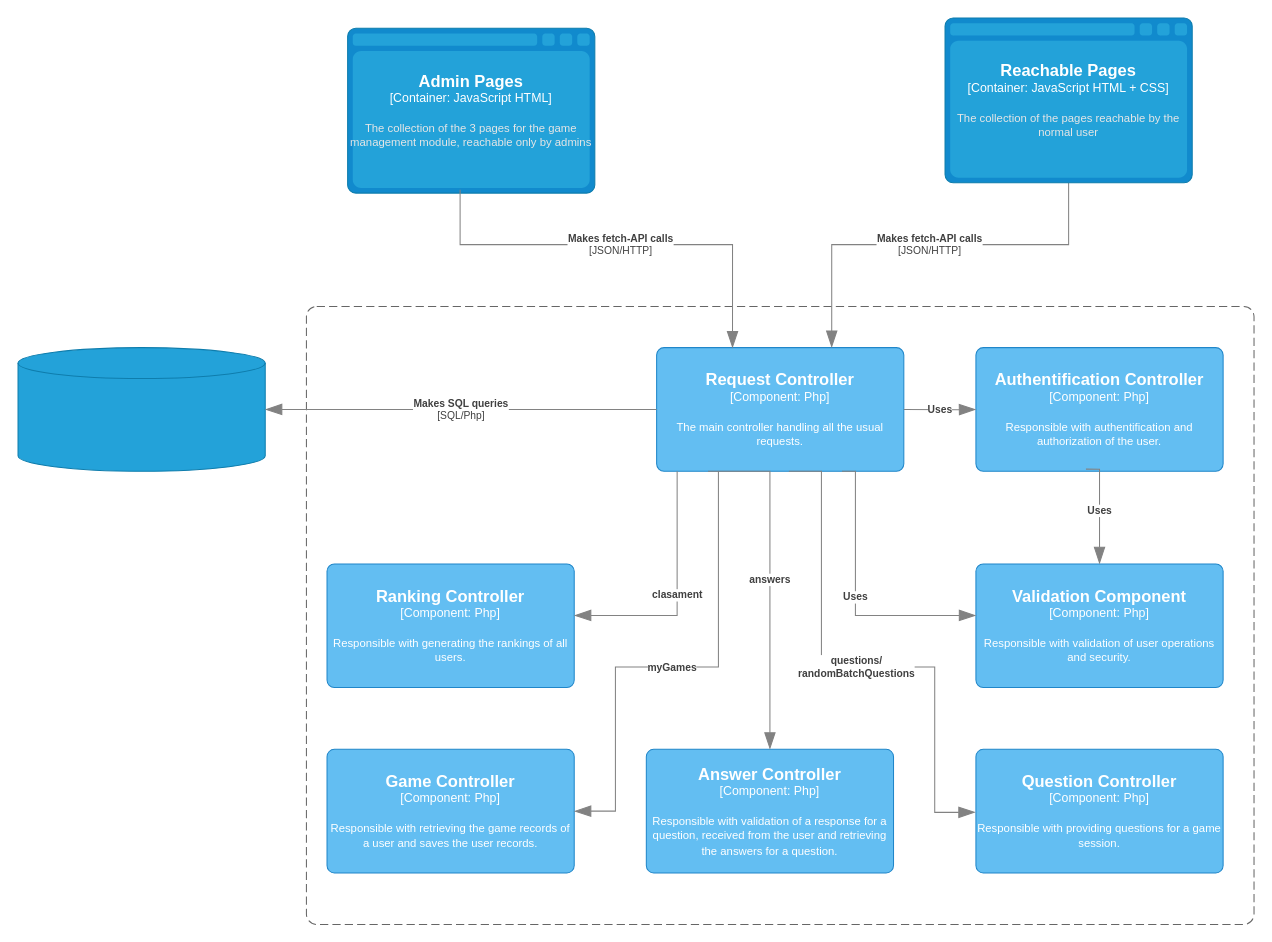
Image size: 1272x942. Some labels were removed from this diagram. The box of each missing label's shape, as (x1, y1, x2, y2) in pixels:
Database [Container: MySql] Stores the necessary informations for the game: (17, 347, 265, 471)
REST Controller [Container]: (305, 305, 1254, 924)
